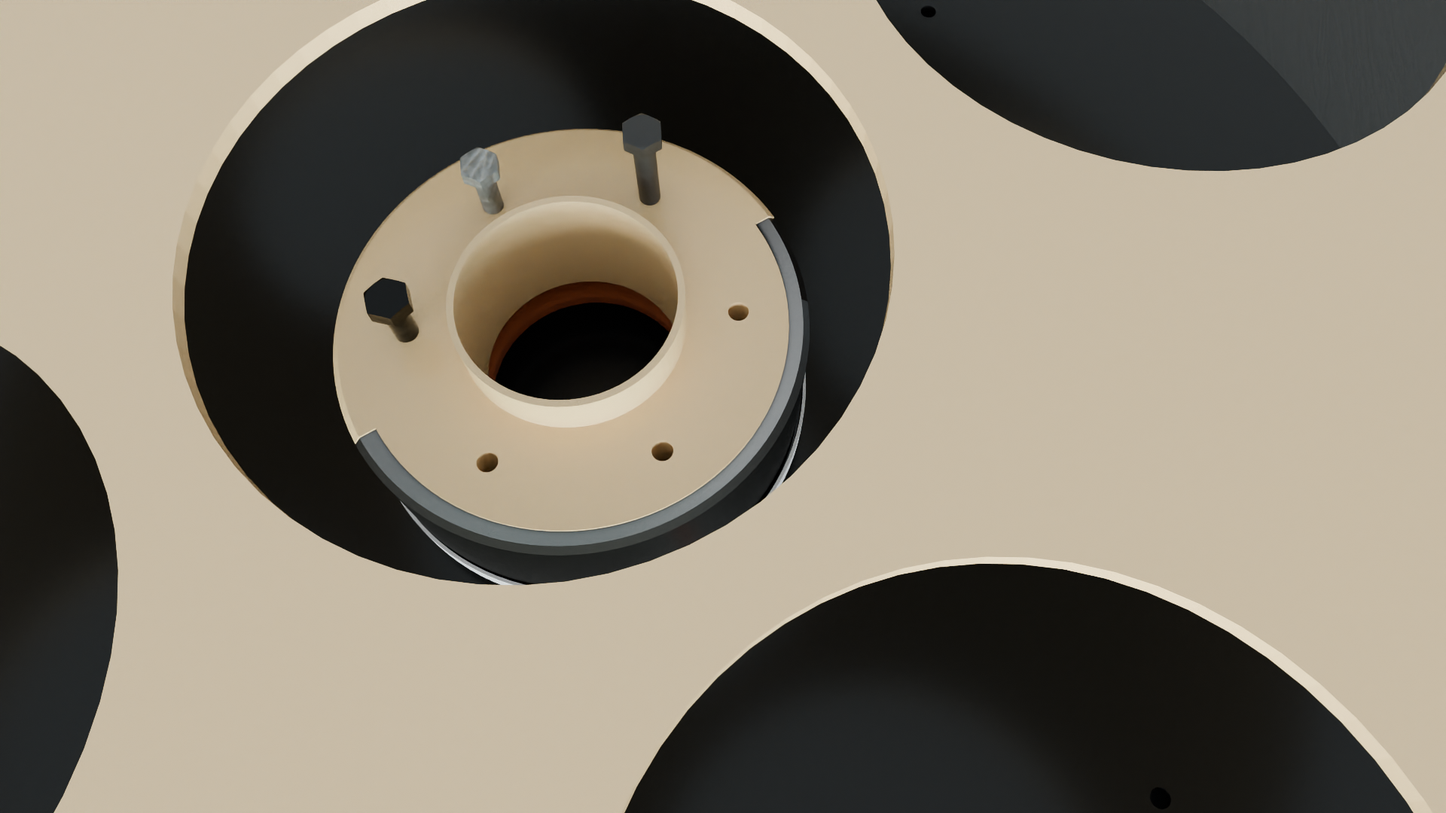bolt: (363, 278, 409, 319), (622, 113, 661, 151), (460, 148, 498, 182)
